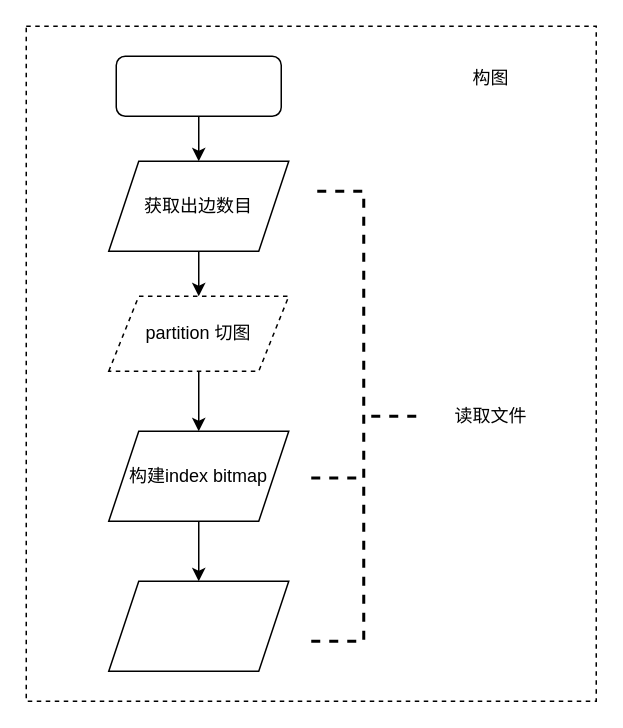
Some shapes in this 623 by 728 pixel diagram are drawn without their labels. Each missing label, with the box of its shape:
load undirected: (115, 55, 281, 116)
存储图: (107, 580, 289, 671)
